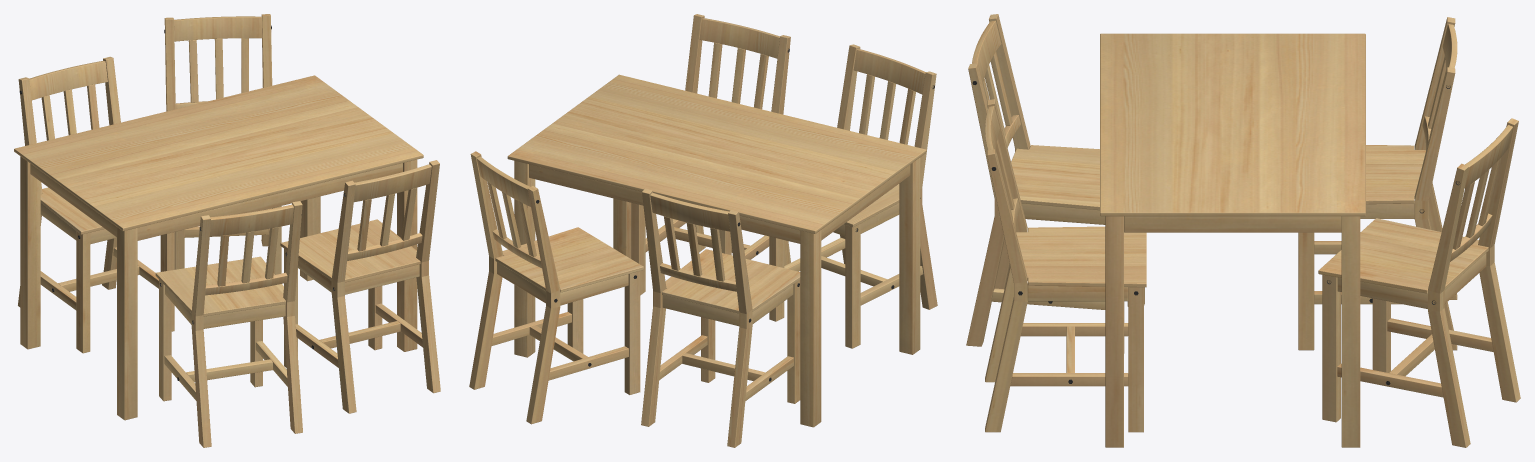
The model's file is obj_wooden_dining_set_bb6695.glb.
The picture shows the model from 3 angles, left to right: view 1: azimuth 30°, elevation 25°; view 2: azimuth 150°, elevation 25°; view 3: azimuth 270°, elevation 25°; orthographic projection. The views are drawn at different scales.
Visible parts, largest first — view 1: obj_wooden_dining_set_bb6695; view 2: obj_wooden_dining_set_bb6695; view 3: obj_wooden_dining_set_bb6695.
Boxes of the visible parts, left/top/right/bottom form: obj_wooden_dining_set_bb6695: left=14, top=14, right=440, bottom=447; obj_wooden_dining_set_bb6695: left=469, top=14, right=937, bottom=447; obj_wooden_dining_set_bb6695: left=966, top=14, right=1520, bottom=447.
Bounding box in the file's own units: 1.03 × 0.75 × 1.35.
2 materials, 1 textured.
